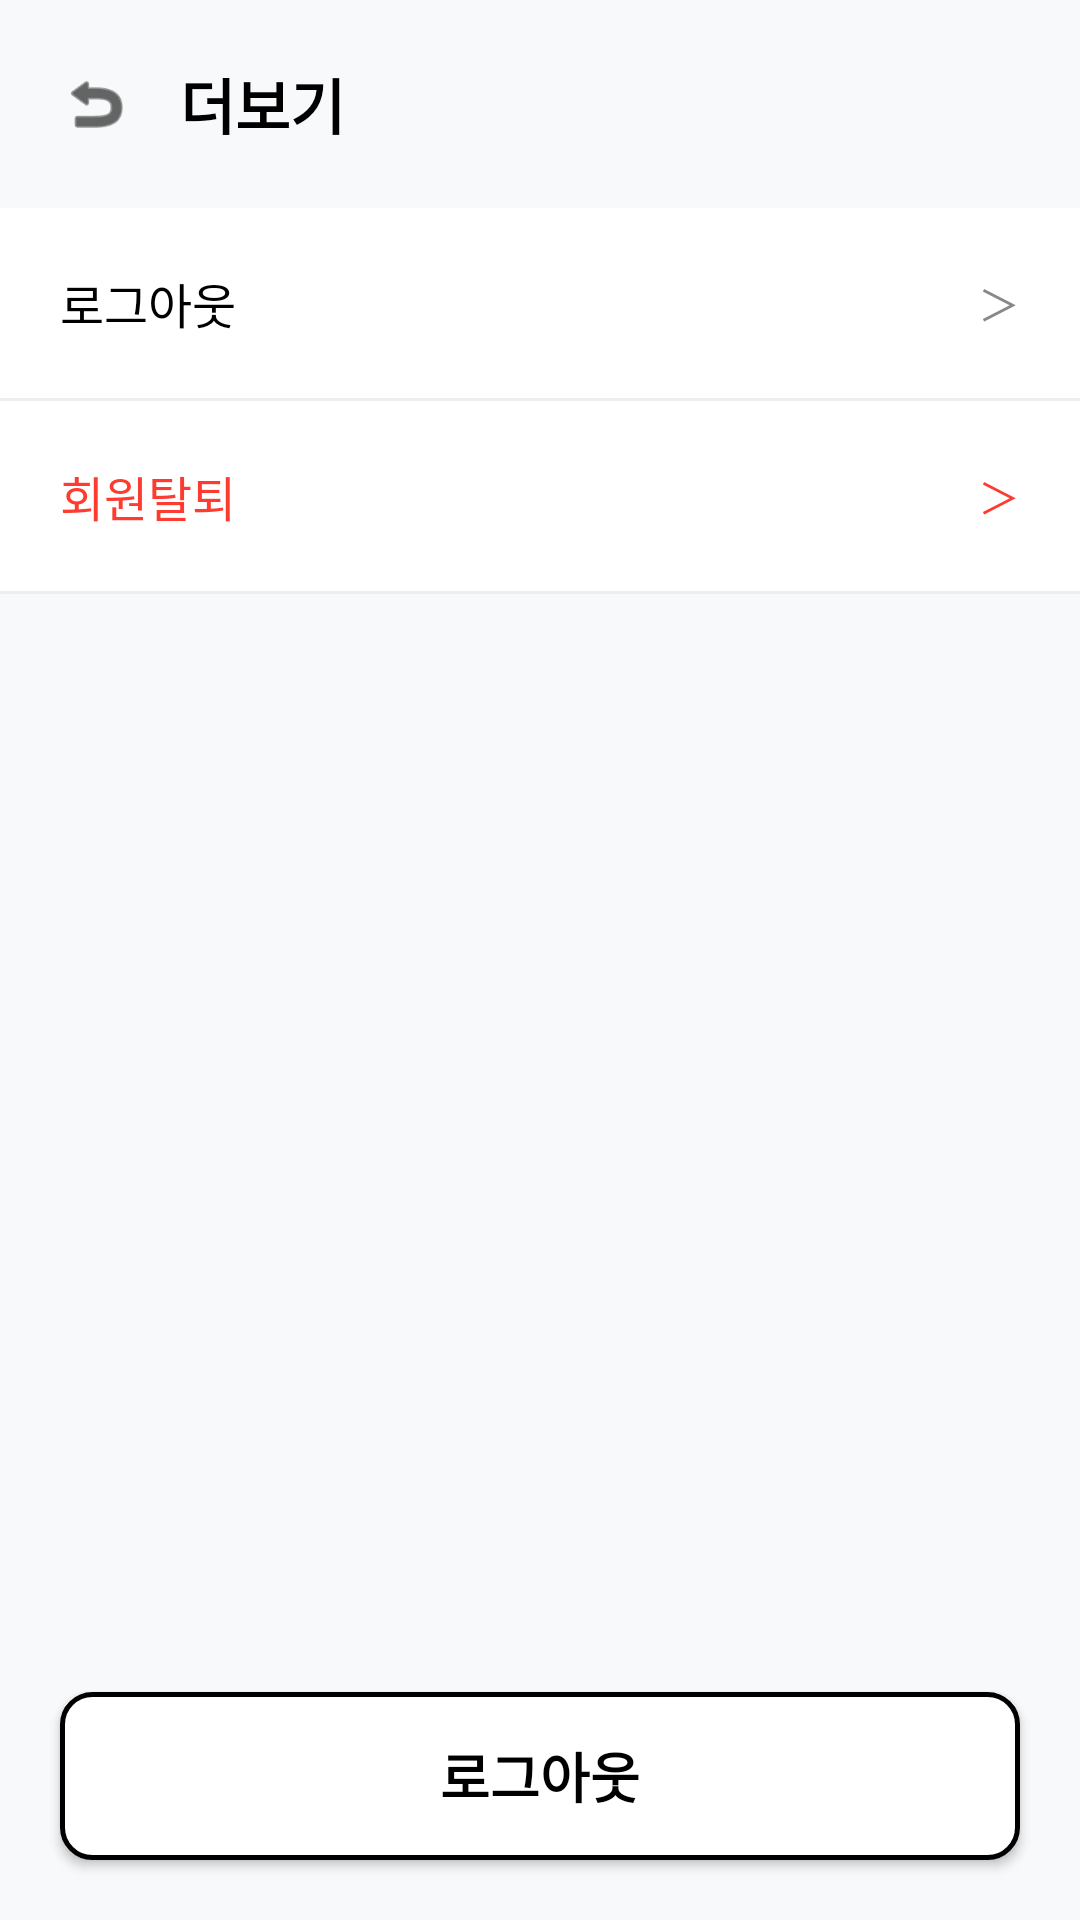

Icons on this 1080w x 1920h Android screen, each with the point to tap as (x=x, y=y):
revert: (x=97, y=104)
